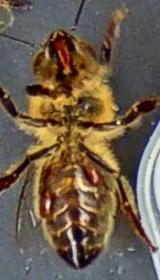varroa_mite: (74, 153, 110, 202), (25, 178, 61, 219)
